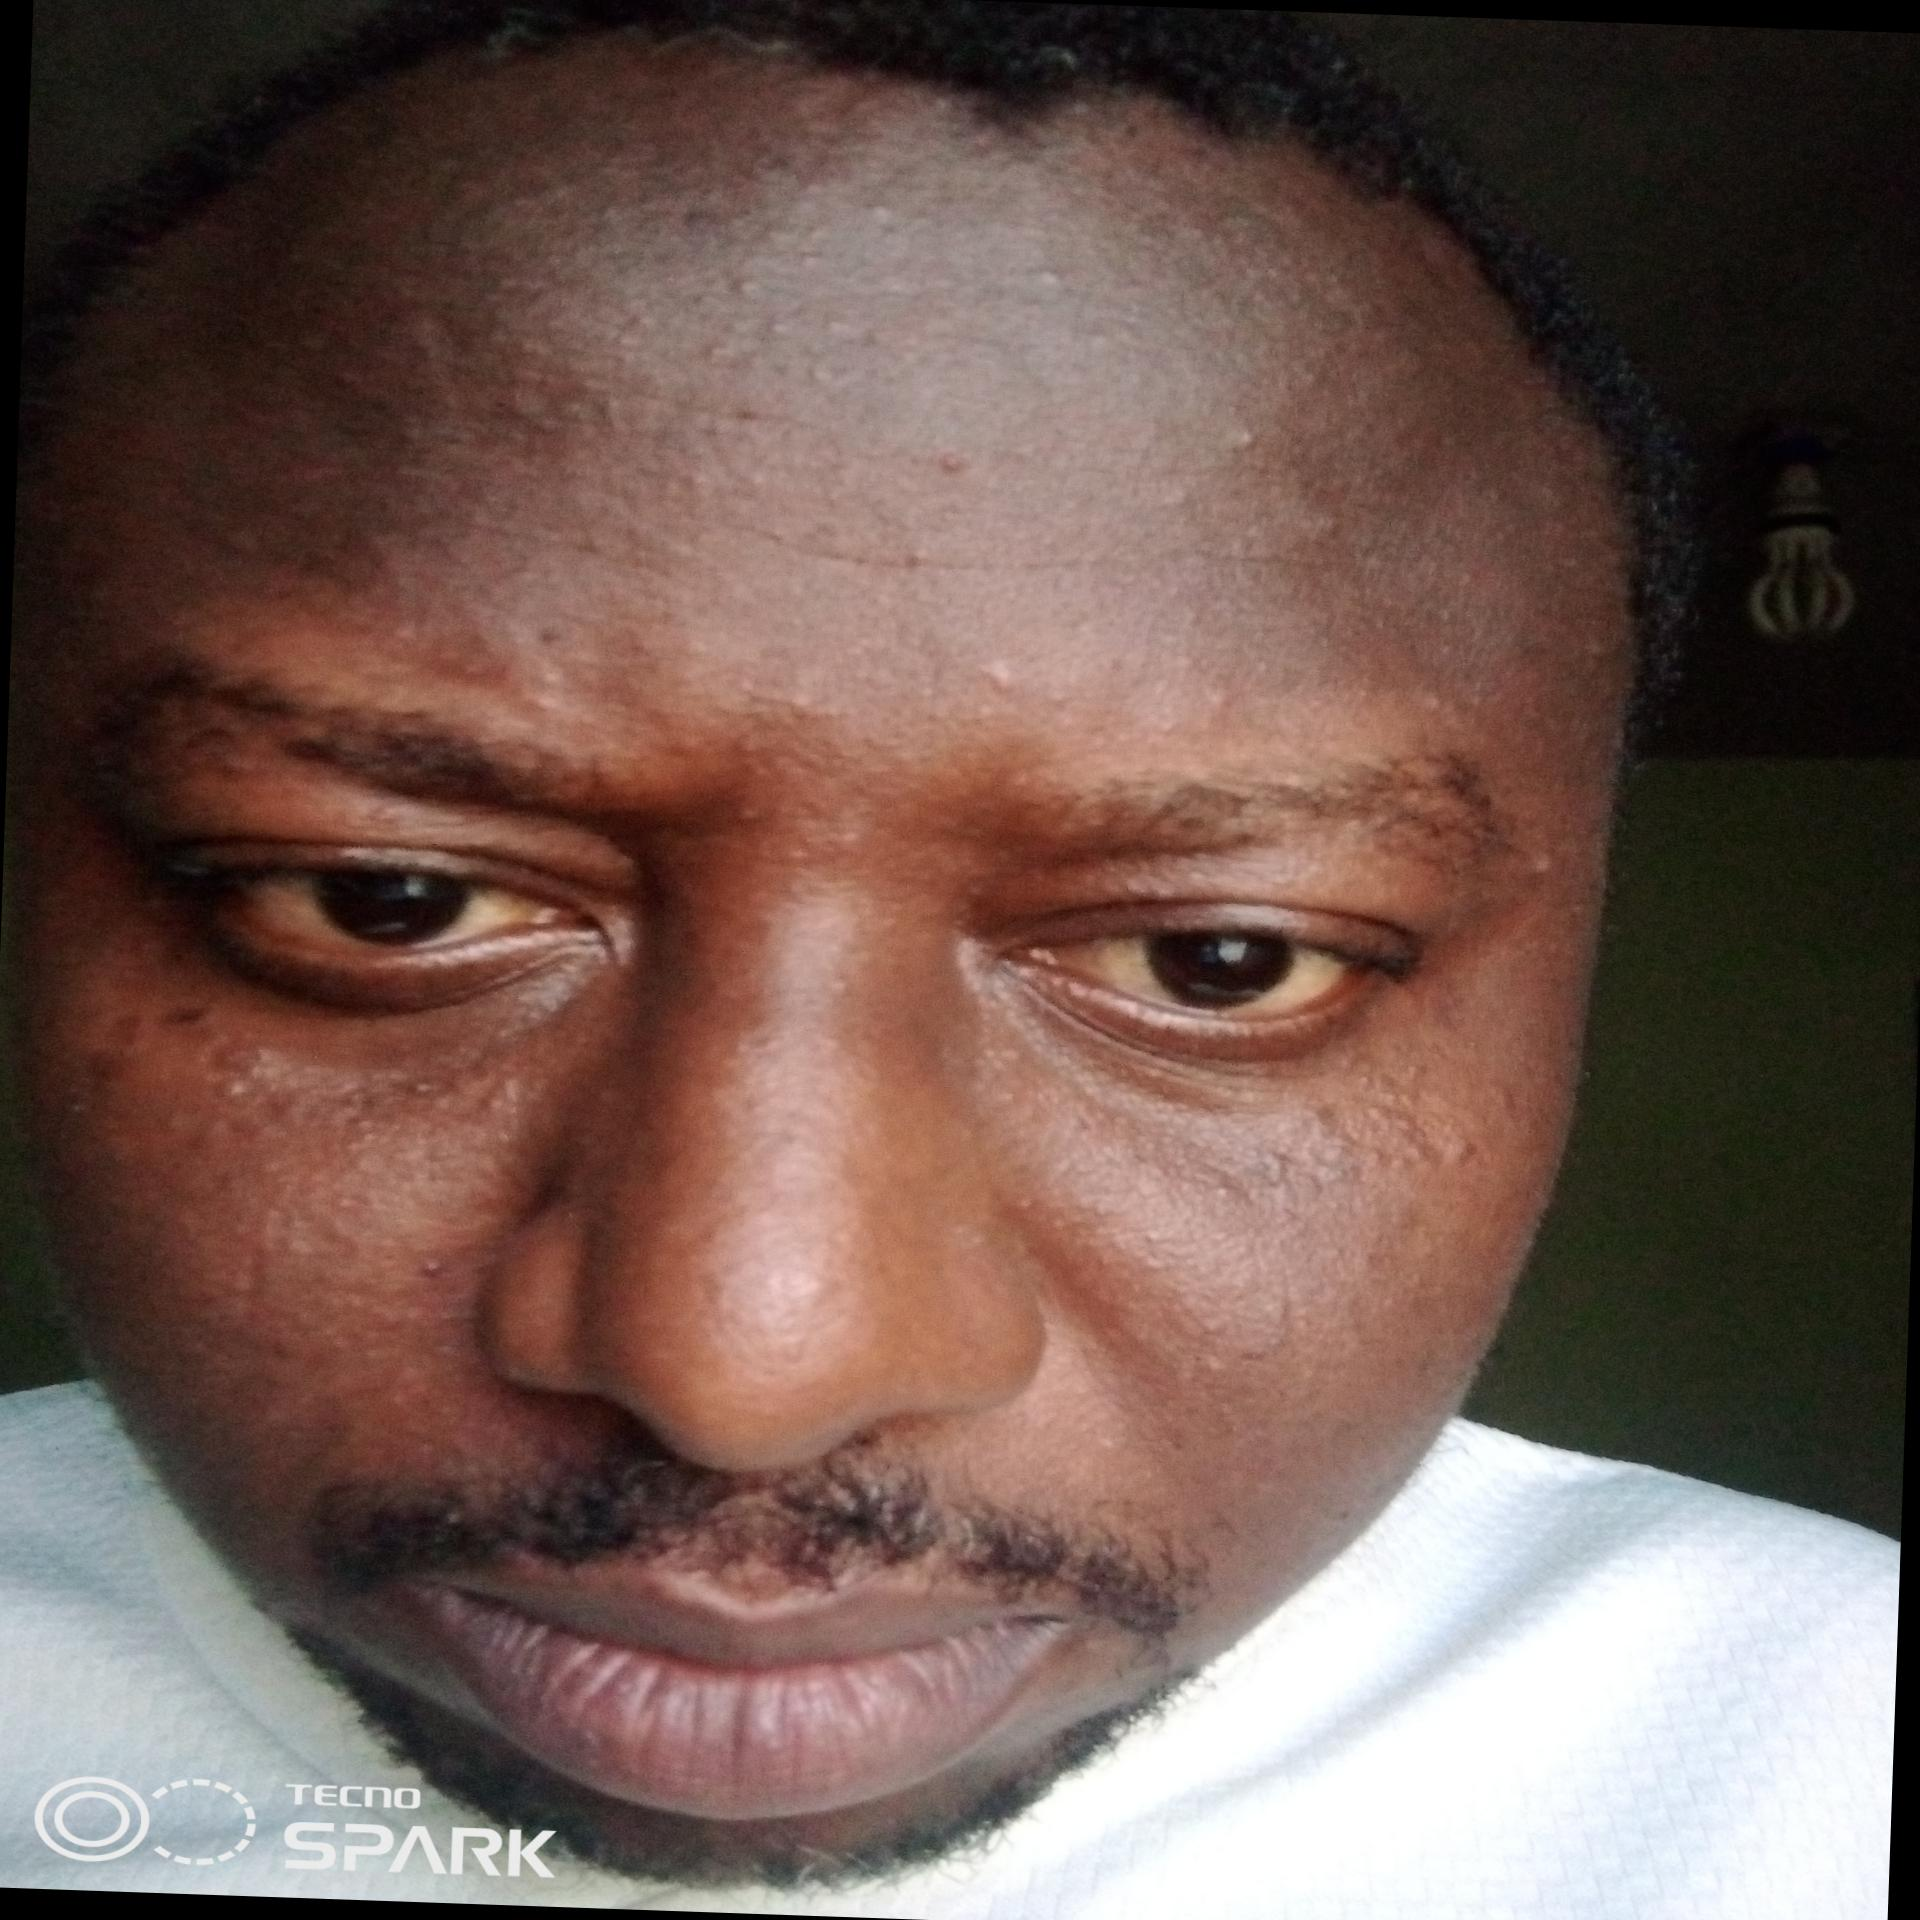Acne: (1220, 1060, 1524, 1210), (155, 1034, 287, 1155), (740, 679, 847, 731), (967, 647, 1044, 714), (371, 1064, 448, 1120), (928, 438, 995, 485), (826, 202, 911, 239), (1213, 417, 1271, 466), (1189, 1306, 1225, 1384), (385, 1255, 452, 1298), (1519, 833, 1561, 891), (1009, 258, 1062, 304), (726, 253, 770, 301)
Wrinkles: (714, 519, 1333, 601), (469, 373, 914, 443), (359, 496, 656, 573)
